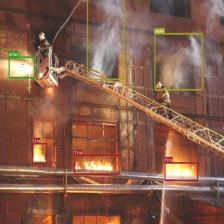fire: (74, 154, 119, 174), (164, 162, 198, 181), (32, 143, 47, 164)
smoke: (86, 0, 123, 79), (154, 33, 202, 90)
